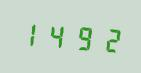four: (44, 18, 69, 52)
nine: (70, 20, 95, 54)
one: (18, 16, 43, 51)
two: (96, 21, 121, 56)
